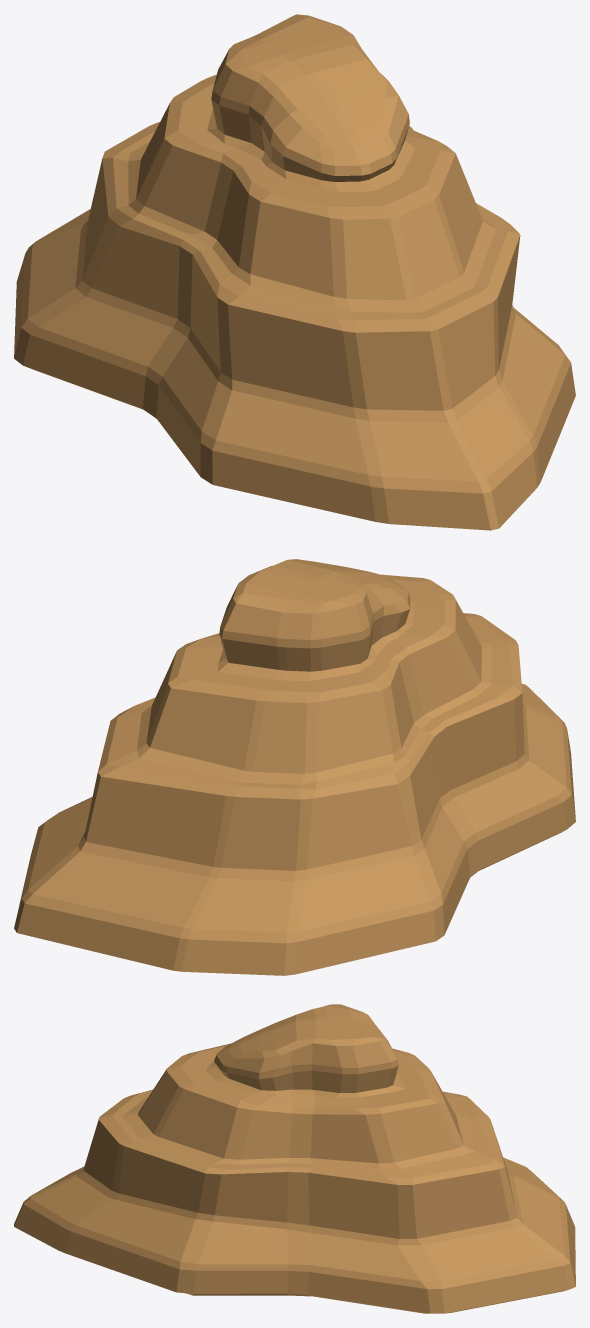
File: Desert_Mesa.fbx
The picture shows the model from 3 angles, top to bottom: view 1: azimuth 30°, elevation 25°; view 2: azimuth 150°, elevation 25°; view 3: azimuth 270°, elevation 25°; orthographic projection. The views are drawn at different scales.
Visible parts, largest first — view 1: Desert Mesa; view 2: Desert Mesa; view 3: Desert Mesa.
Part boxes in pixels (x1,y1,x2,y2): Desert Mesa: [14, 14, 575, 530]; Desert Mesa: [14, 559, 575, 975]; Desert Mesa: [14, 1004, 575, 1313].
Size of the model in its own units: 8640 by 5755 by 13562.
